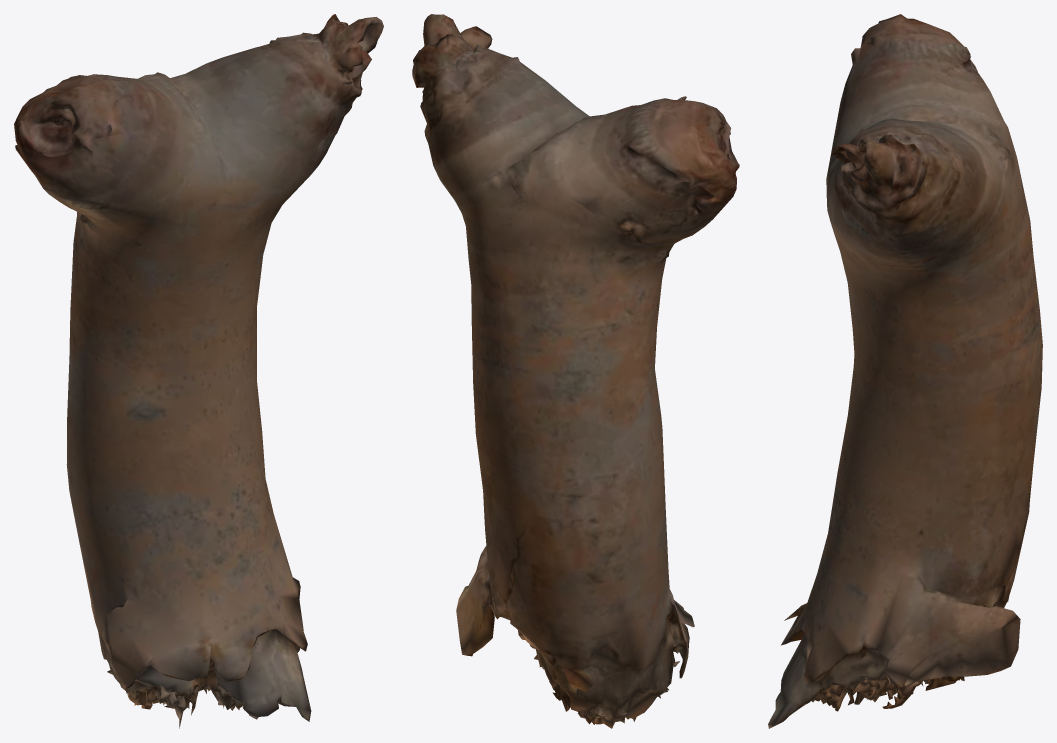
File: dead_quiver_branch_02.glb
3 views of the same model, side by side, from view 1: azimuth 30°, elevation 25°; view 2: azimuth 150°, elevation 25°; view 3: azimuth 270°, elevation 25° (orthographic).
Parts seen in each view (by area): view 1: dead_quiver_branch_02; view 2: dead_quiver_branch_02; view 3: dead_quiver_branch_02.
Part boxes in pixels (left/top/right/bottom): dead_quiver_branch_02: left=14, top=14, right=383, bottom=728; dead_quiver_branch_02: left=412, top=14, right=739, bottom=728; dead_quiver_branch_02: left=768, top=14, right=1042, bottom=728.
Bounding box in the file's own units: 0.2873 × 0.5264 × 0.2007.
1 material, 1 textured.
